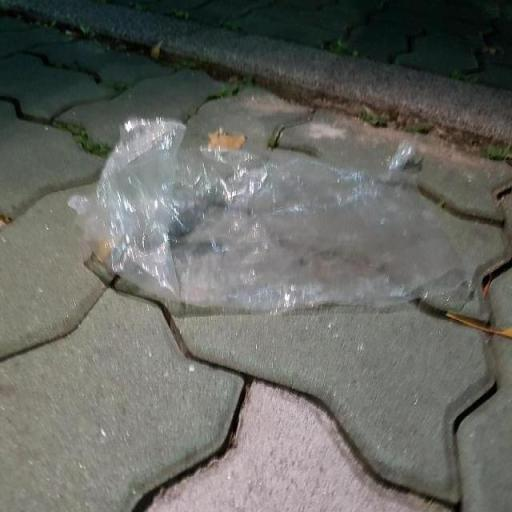plastic-bag: (68, 112, 478, 319)
